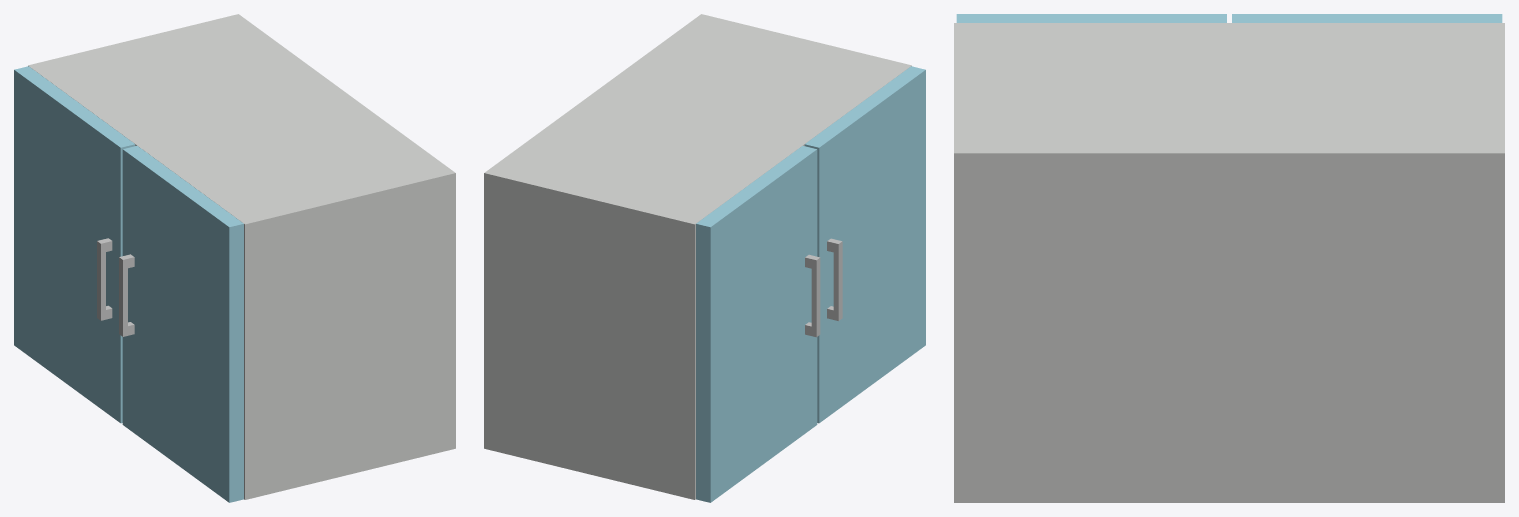
Rendered from Counter_LONG_2Door 1.fbx.
The picture shows the model from 3 angles, left to right: view 1: azimuth 30°, elevation 25°; view 2: azimuth 150°, elevation 25°; view 3: azimuth 270°, elevation 25°; orthographic projection. The views are drawn at different scales.
Visible parts, largest first — view 1: CounterLONGType1, CounterType4DOOR.002, CounterType1DOOR.002, CounterType4Handle.002, CounterType1Handle.002; view 2: CounterLONGType1, CounterType1DOOR.002, CounterType4DOOR.002, CounterType1Handle.002, CounterType4Handle.002; view 3: CounterLONGType1, CounterType1DOOR.002, CounterType4DOOR.002.
Part boxes in pixels (<box>): CounterLONGType1: <box>28,14,455,499</box>; CounterType4DOOR.002: <box>122,145,243,502</box>; CounterType1DOOR.002: <box>14,66,135,423</box>; CounterType4Handle.002: <box>119,254,134,336</box>; CounterType1Handle.002: <box>97,238,112,320</box>; CounterLONGType1: <box>484,14,911,499</box>; CounterType1DOOR.002: <box>696,145,817,502</box>; CounterType4DOOR.002: <box>804,66,925,423</box>; CounterType1Handle.002: <box>805,254,820,337</box>; CounterType4Handle.002: <box>827,238,842,320</box>; CounterLONGType1: <box>954,23,1504,502</box>; CounterType1DOOR.002: <box>1232,14,1502,22</box>; CounterType4DOOR.002: <box>956,14,1226,22</box>.
Bounding box in the file's own units: 62.97 × 70 × 100.
